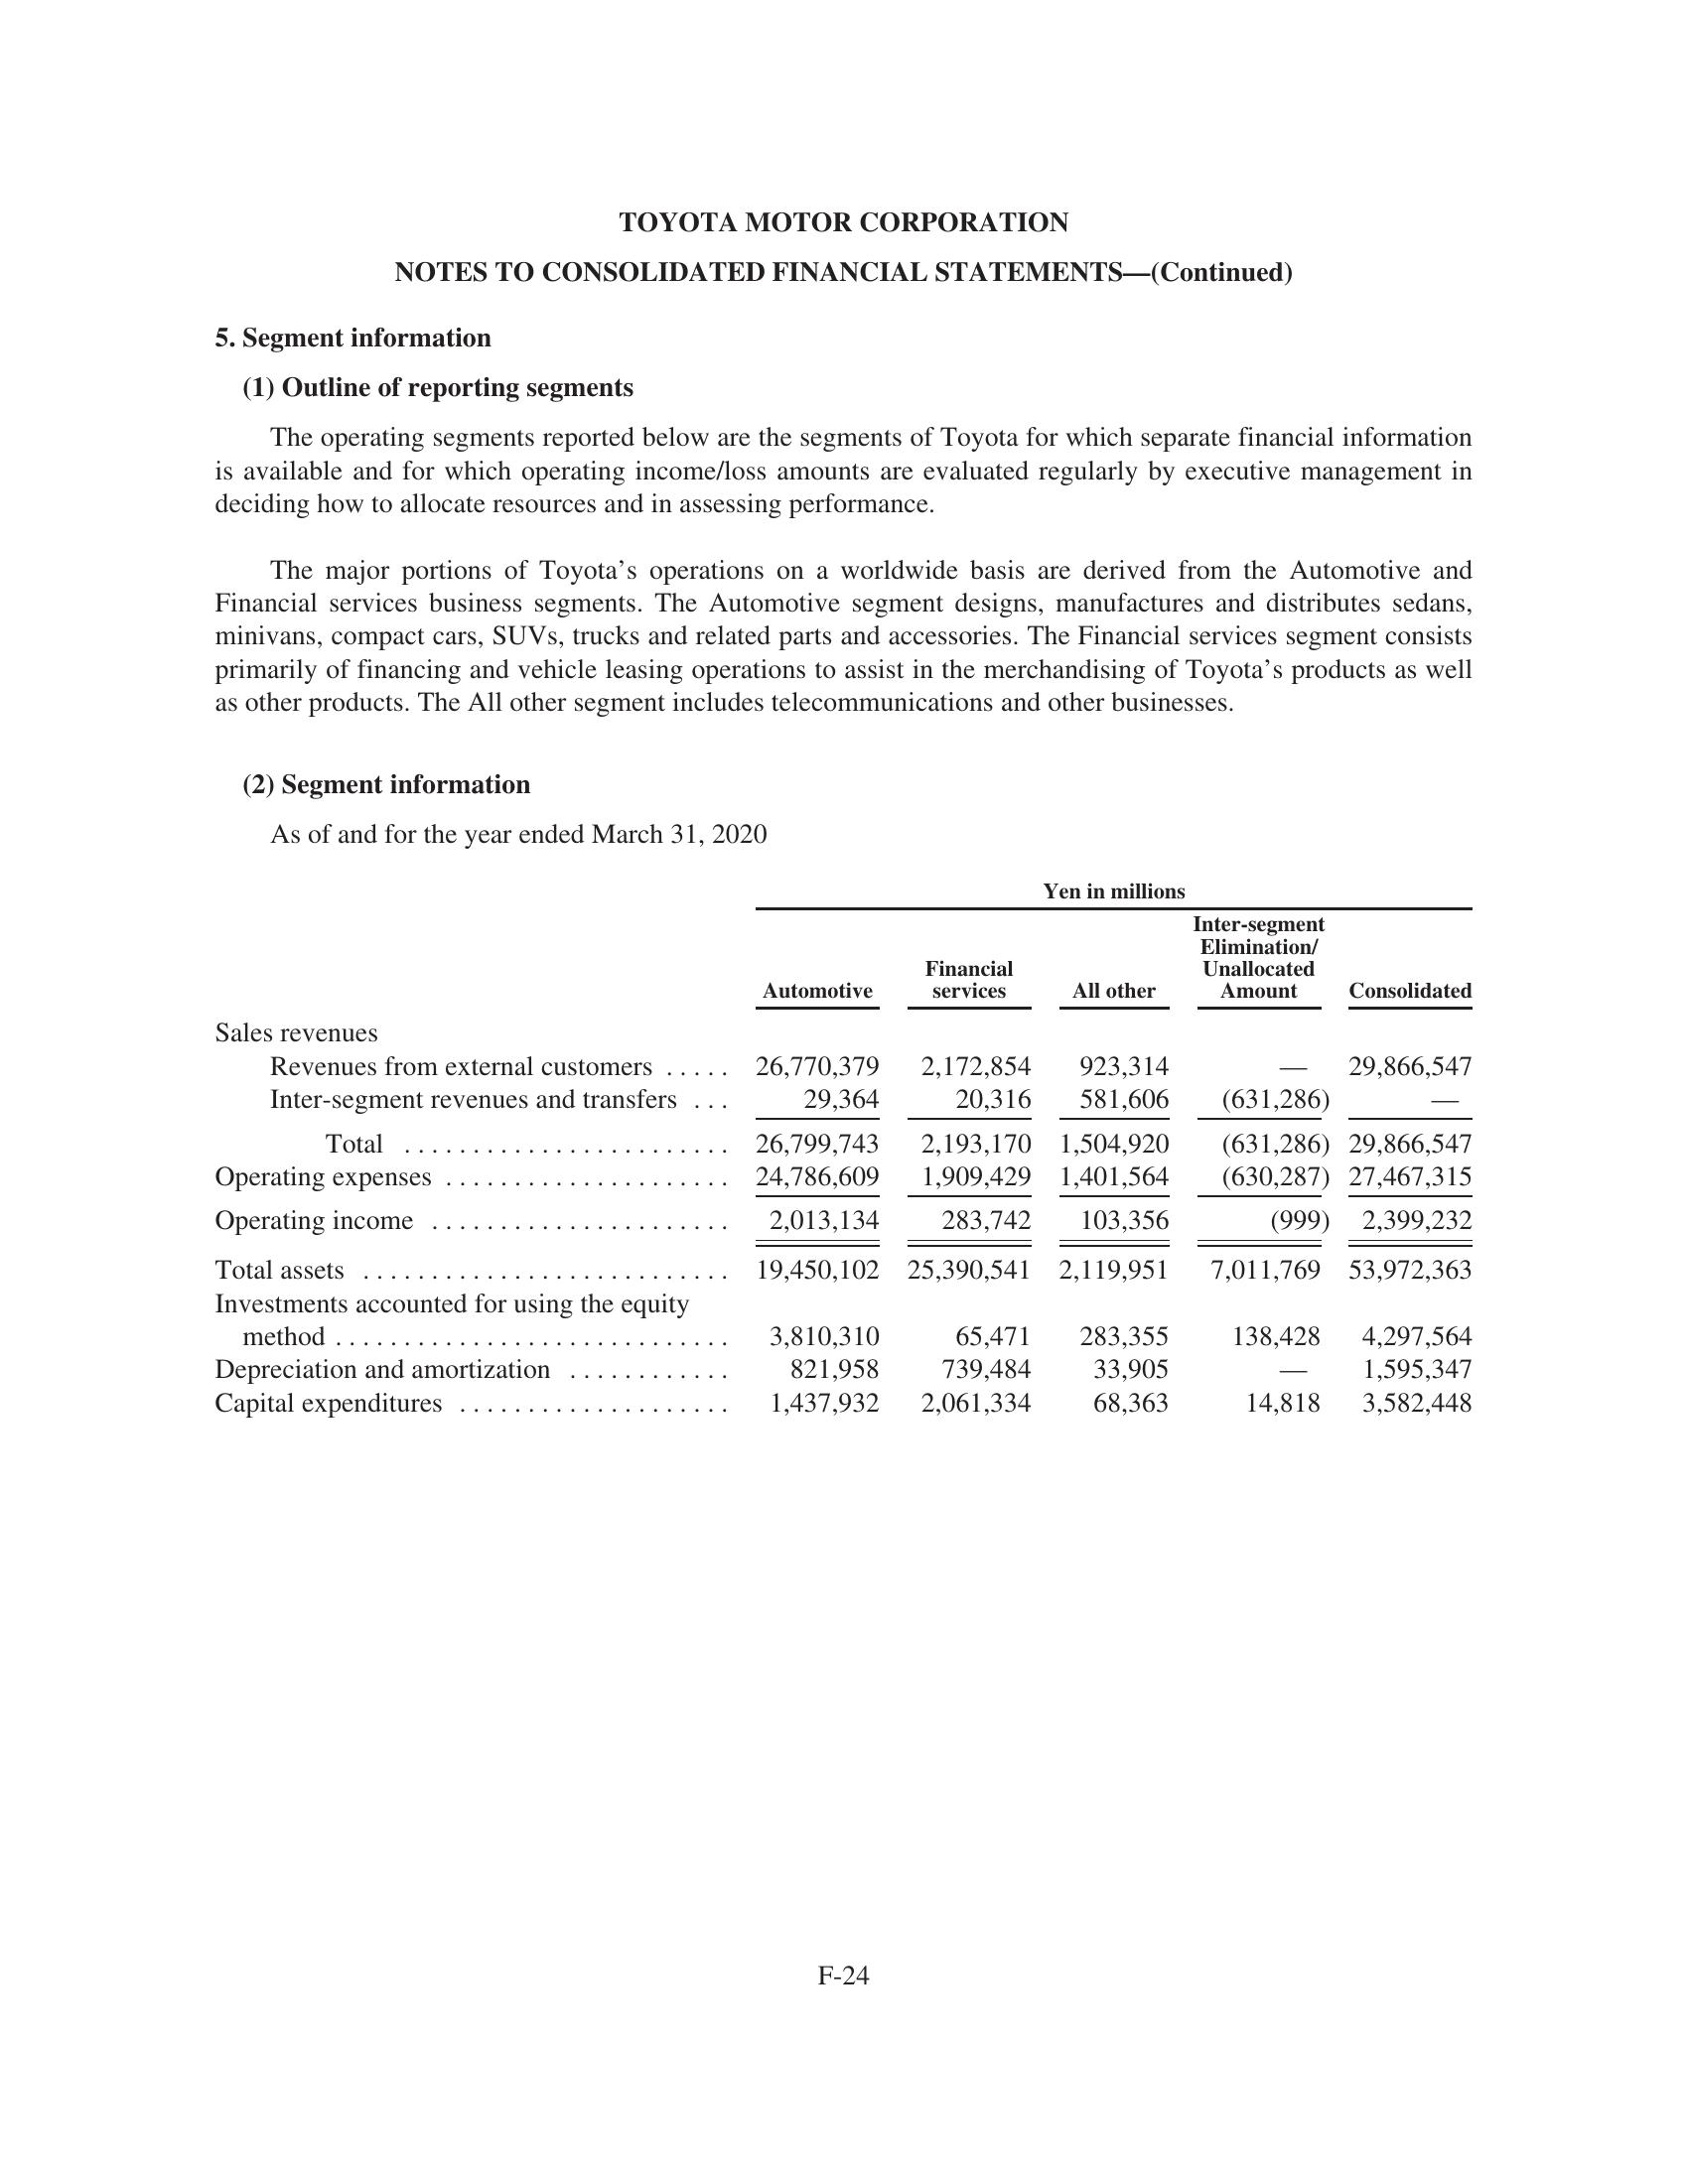Footer: (0, 1950, 1688, 2184)
Header: (0, 0, 1688, 158)
Table: (179, 865, 1500, 1439)
